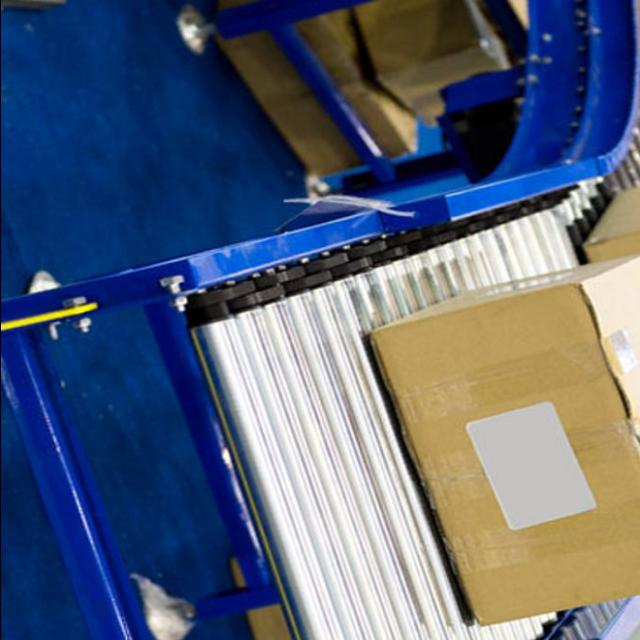food: (366, 248, 640, 628)
